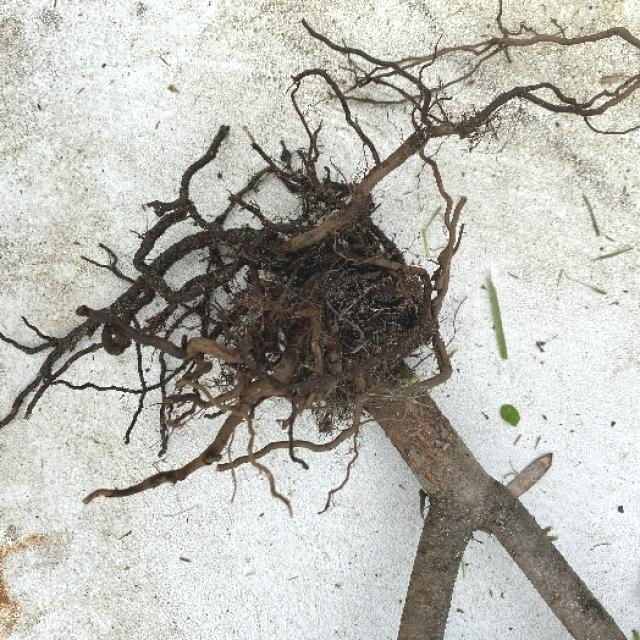organic: (8, 129, 435, 486)
